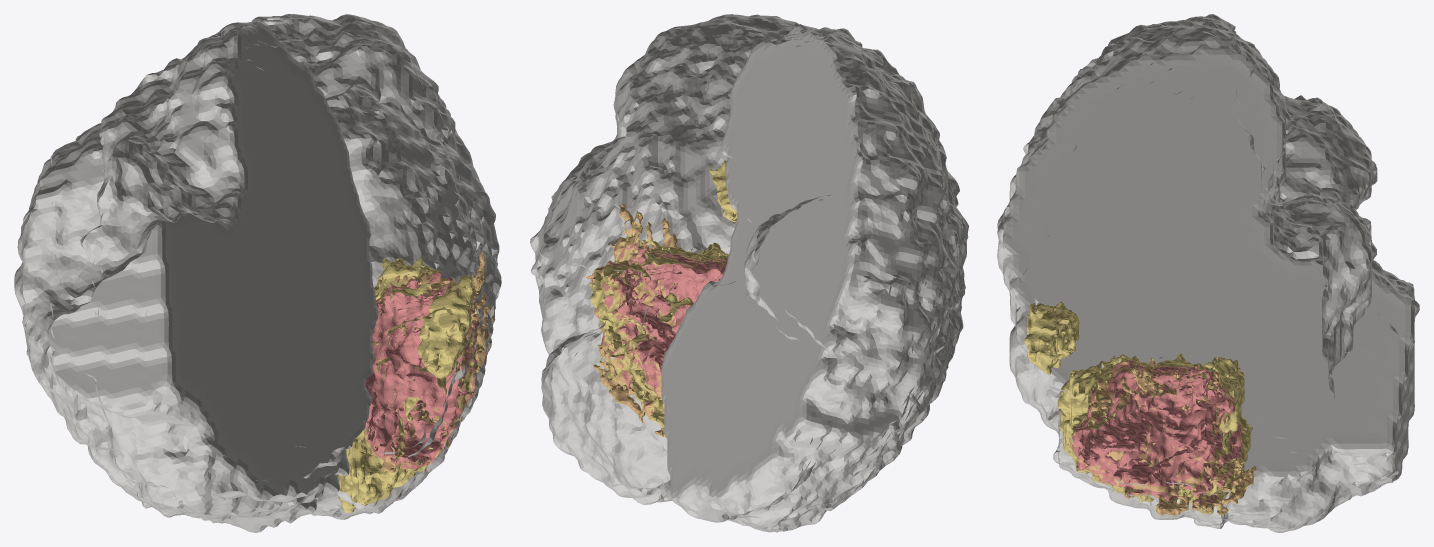
The picture shows the model from 3 angles, left to right: view 1: azimuth 30°, elevation 25°; view 2: azimuth 150°, elevation 25°; view 3: azimuth 270°, elevation 25°; orthographic projection. The views are drawn at different scales.
Visible parts, largest first — view 1: brain_left, brain_right, enhancing, edema, core; view 2: brain_left, brain_right, enhancing, edema, core; view 3: brain_right, brain_left, enhancing, edema, core.
Part boxes in pixels (x1,y1,x2,y2): brain_left: (14, 20, 378, 532); brain_right: (251, 14, 501, 519); enhancing: (365, 272, 488, 469); edema: (337, 251, 492, 512); core: (364, 251, 492, 472); brain_left: (661, 23, 968, 532); brain_right: (530, 14, 817, 504); enhancing: (586, 239, 727, 413); edema: (585, 160, 736, 437); core: (586, 205, 727, 436); brain_right: (997, 43, 1419, 532); brain_left: (997, 14, 1414, 300); enhancing: (1070, 359, 1243, 503); edema: (1024, 302, 1256, 515); core: (1070, 358, 1255, 515).
Size of the model in its own units: 140 by 169 by 138.
